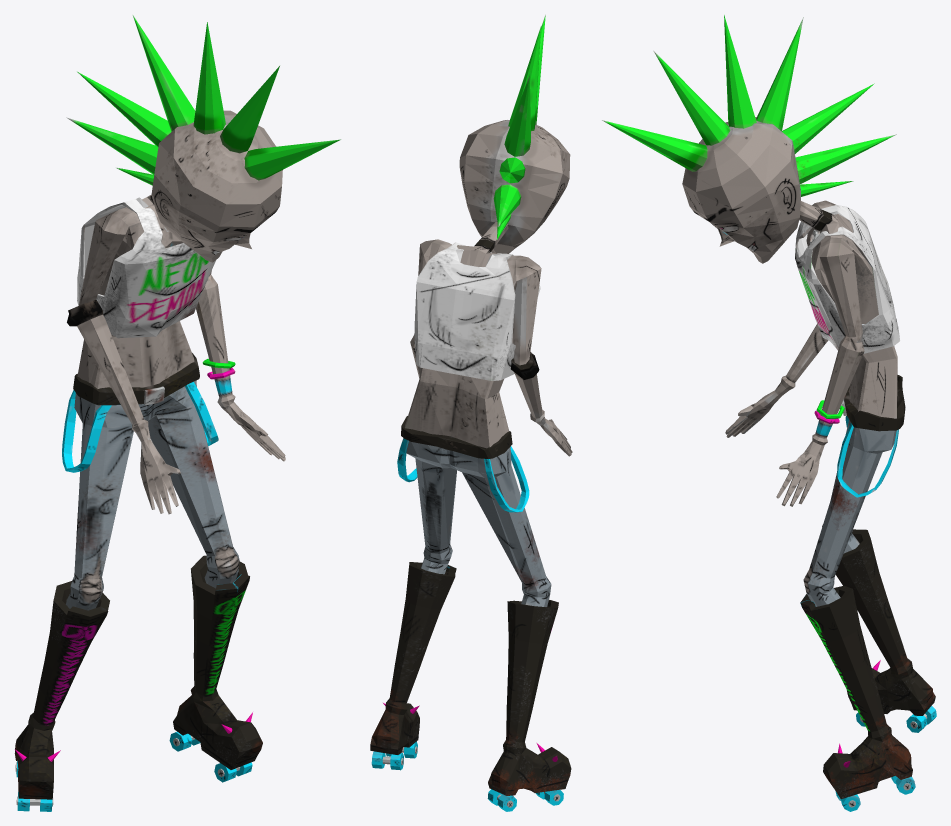
The model's file is punkAnimation_000036.obj.
3 views of the same model, side by side, from view 1: azimuth 30°, elevation 25°; view 2: azimuth 150°, elevation 25°; view 3: azimuth 270°, elevation 25° (orthographic). The views are drawn at different scales.
Parts seen in each view (by area): view 1: Cube.004_Cube.003; view 2: Cube.004_Cube.003; view 3: Cube.004_Cube.003.
Boxes of the visible parts, x1,y1,x2,y2 form: Cube.004_Cube.003: [14, 15, 340, 811]; Cube.004_Cube.003: [370, 15, 572, 811]; Cube.004_Cube.003: [602, 15, 936, 811].
Bounding box in the file's own units: 2.05 × 7.14 × 2.9.
